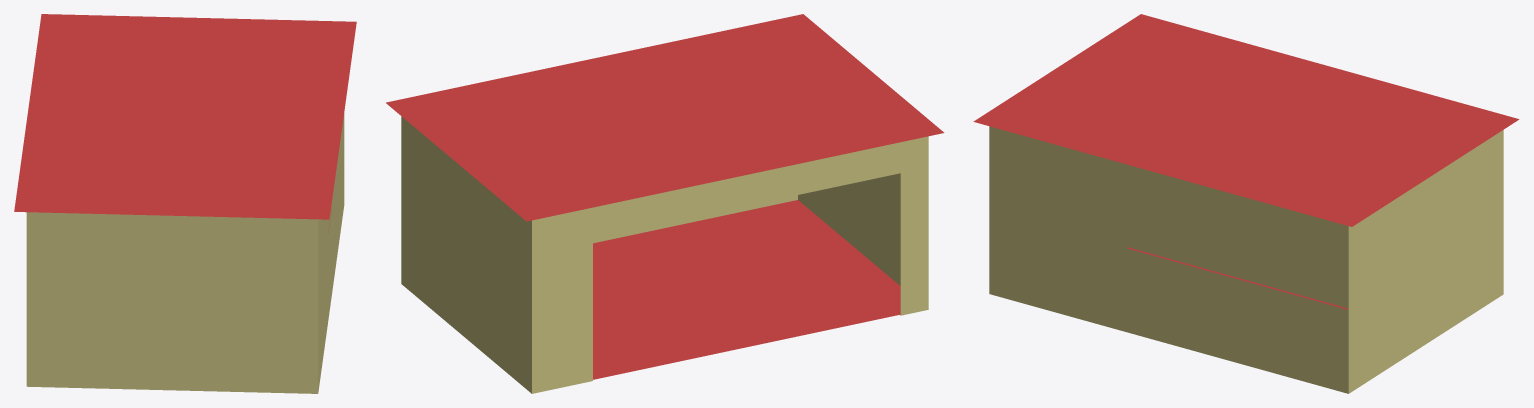
The picture shows the model from 3 angles, left to right: view 1: azimuth 30°, elevation 25°; view 2: azimuth 150°, elevation 25°; view 3: azimuth 270°, elevation 25°; orthographic projection. The views are drawn at different scales.
Parts seen in each view (by area): view 1: group_3, group_5, group_4; view 2: group_3, group_5, group_6, group_4; view 3: group_5, group_3, group_4.
Part boxes in pixels (box(x1,y1,x2,y2)): group_3: box(14, 14, 356, 219); group_5: box(26, 113, 344, 393); group_4: box(14, 14, 356, 219); group_3: box(386, 14, 944, 221); group_5: box(401, 116, 928, 393); group_6: box(593, 200, 900, 379); group_4: box(386, 14, 943, 220); group_5: box(989, 126, 1503, 393); group_3: box(973, 14, 1518, 226); group_4: box(975, 14, 1516, 225).
Size of the model in its own units: 32.72 by 35.47 by 12.43.
